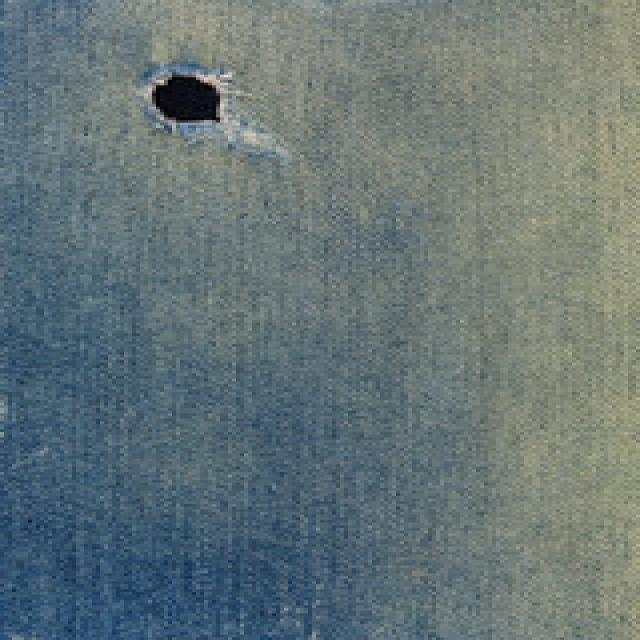Hole: (152, 75, 220, 121)
